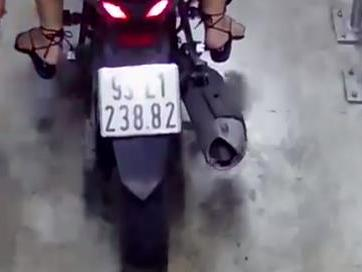num_plate: (96, 63, 183, 138)
